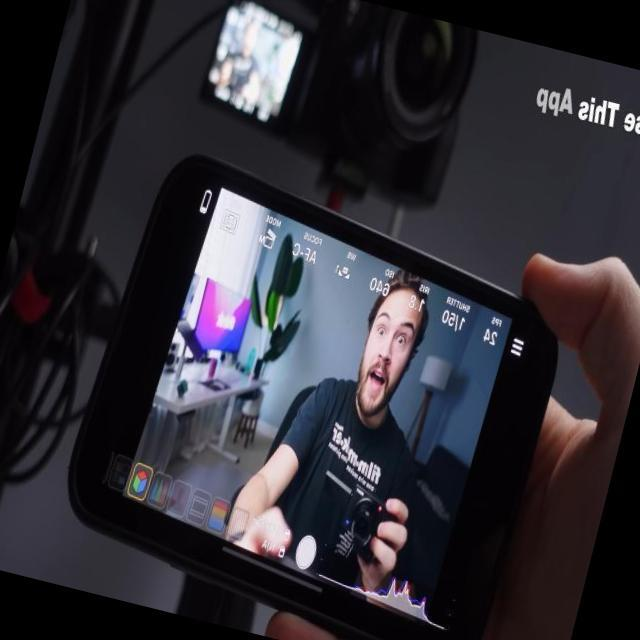person: (220, 244, 468, 591)
